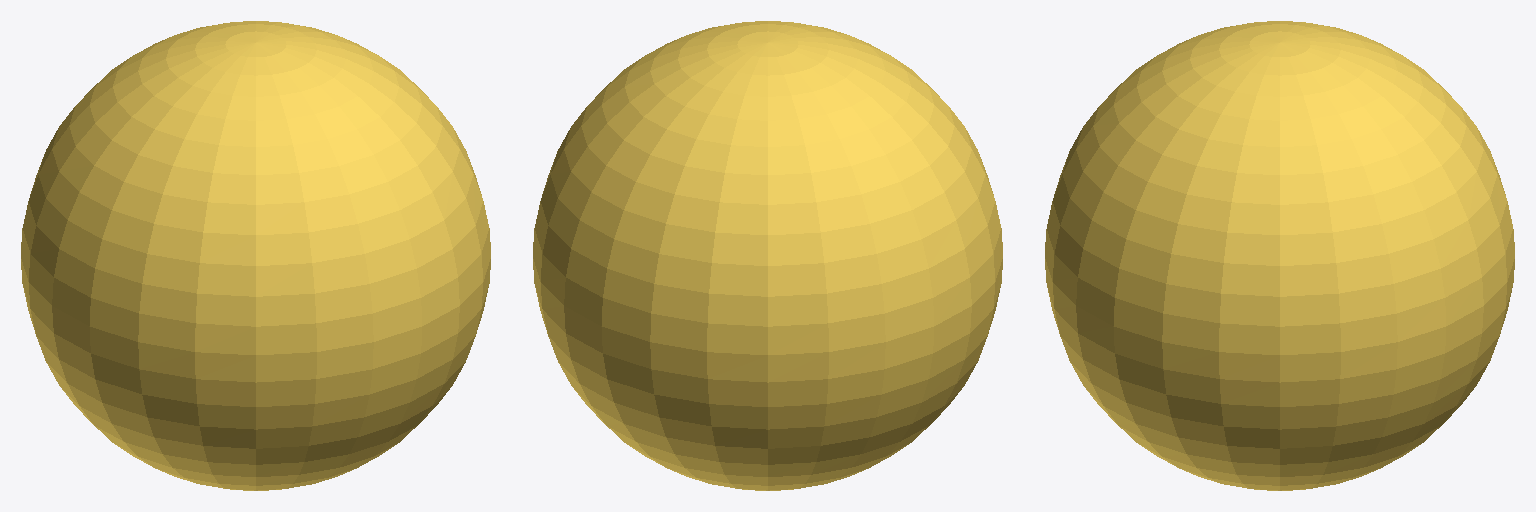
The model's file is asteroids.obj.
The picture shows the model from 3 angles: view 1: azimuth 30°, elevation 25°; view 2: azimuth 150°, elevation 25°; view 3: azimuth 270°, elevation 25°; orthographic projection.
Parts seen in each view (by area): view 1: Sphere; view 2: Sphere; view 3: Sphere.
Boxes of the visible parts, box(x1,y1,x2,y2) form: Sphere: box(21, 21, 490, 490); Sphere: box(533, 21, 1002, 490); Sphere: box(1045, 21, 1514, 490).
Size of the model in its own units: 3 by 3 by 3.